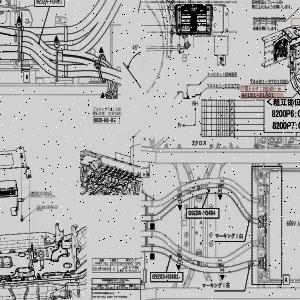PartNumber: (206, 82, 240, 88), (250, 78, 283, 84), (188, 210, 216, 216), (152, 274, 179, 279), (242, 93, 274, 97), (36, 204, 54, 209), (36, 0, 62, 3), (92, 267, 110, 271), (30, 191, 49, 194)
